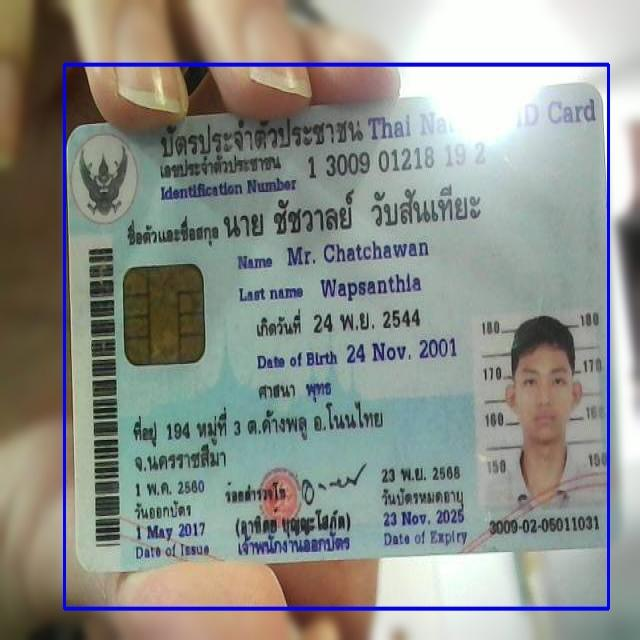Address_th: (121, 399, 386, 475)
Date_of_Birth: (342, 336, 462, 366)
Date_of_Expiry: (378, 505, 467, 531)
Date_of_Issue: (131, 519, 210, 542)
First_Name: (285, 238, 433, 269)
ID_Number: (304, 140, 488, 181)
Image: (470, 308, 605, 512)
Last_Name: (317, 272, 424, 303)
Thai_Name: (218, 183, 489, 243)
